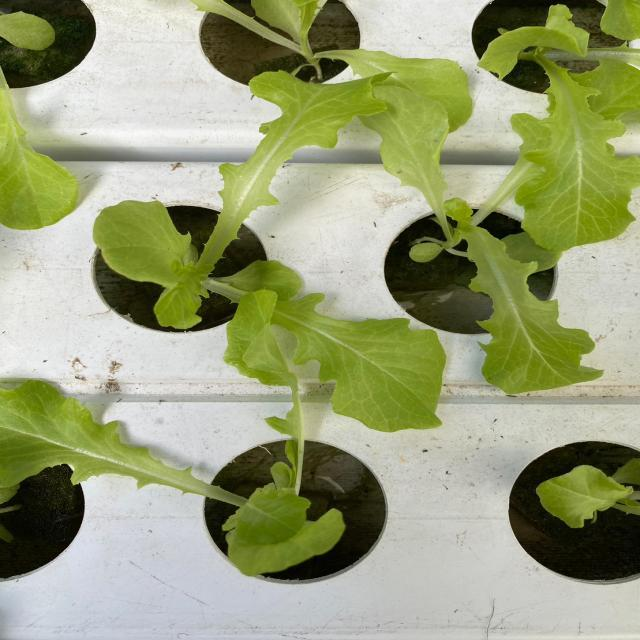Lettuce-Not-Ready-to-Harvest: (95, 71, 445, 429), (0, 290, 345, 574), (361, 76, 601, 393), (480, 5, 640, 254), (192, 0, 472, 131), (0, 70, 78, 229), (536, 458, 640, 528)
